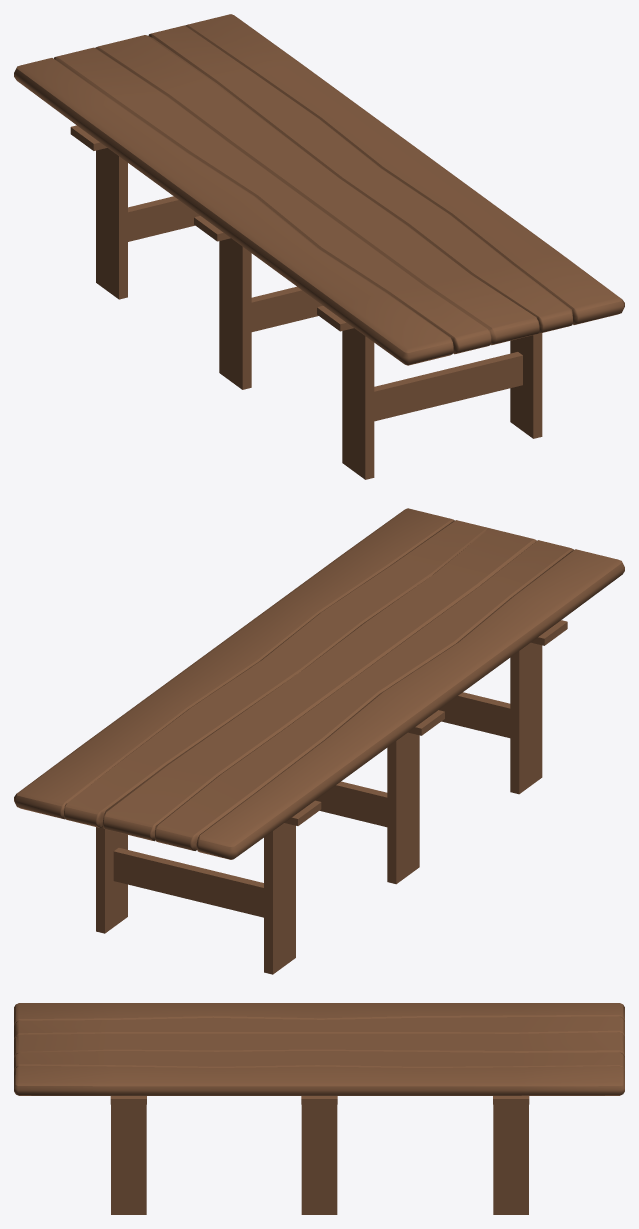
Rendered from 093_wooden_table_var3.glb.
3 renders of one model, top to bottom at view 1: azimuth 30°, elevation 25°; view 2: azimuth 150°, elevation 25°; view 3: azimuth 270°, elevation 25°, orthographic. The views are drawn at different scales.
Parts seen in each view (by area): view 1: table, legs, support_bottom, support_top; view 2: table, legs, support_bottom, support_top; view 3: table, legs, support_top.
Boxes of the visible parts, bbox=[...] form: table: bbox=[14, 14, 624, 365]; legs: bbox=[96, 148, 542, 479]; support_bottom: bbox=[128, 196, 522, 421]; support_top: bbox=[70, 125, 353, 331]; table: bbox=[14, 508, 624, 859]; legs: bbox=[96, 642, 542, 974]; support_bottom: bbox=[113, 692, 510, 917]; support_top: bbox=[284, 620, 567, 825]; table: bbox=[14, 1003, 624, 1095]; legs: bbox=[111, 1104, 528, 1214]; support_top: bbox=[110, 1096, 529, 1104].
Size of the model in its own units: 1.5 by 1.12 by 4.49.
